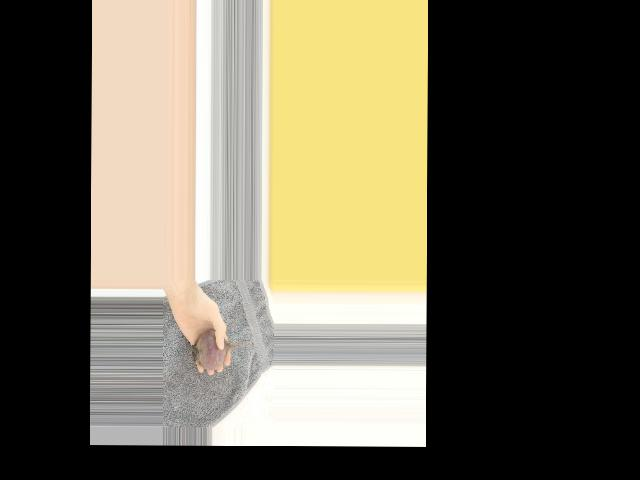beet: (191, 329, 257, 371)
